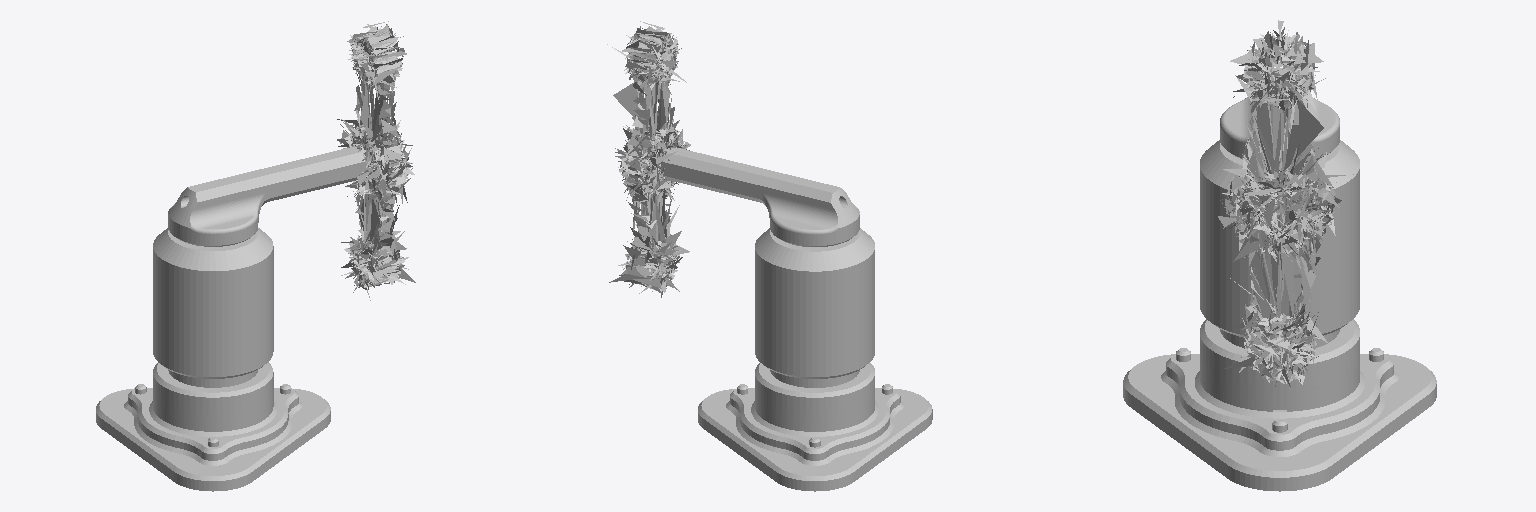
robot.urdf — melon_reactor:
<?xml version="1.0"?>
<robot name="melon_reactor">
  <material name="titanium"><color rgba="0.8 0.8 0.8 1"/></material>

  <link name="world"/>

  <link name="base_link">
    <visual>
      <origin xyz="0 0 0" rpy="0 0 0"/>
      <geometry><mesh filename="package://melon_warpdrive/urdf/model/base.stl" scale="0.001 0.001 0.001"/></geometry>
      <material name="titanium"/>
    </visual>
  </link>
  <joint name="world_to_base" type="fixed"><parent link="world"/><child link="base_link"/></joint>

  <link name="arm_link">
    <visual>
      <origin xyz="0 0 0" rpy="0 0 0"/>
      <geometry><mesh filename="package://melon_warpdrive/urdf/model/arm.stl" scale="0.001 0.001 0.001"/></geometry>
      <material name="titanium"/>
    </visual>
  </link>
  <joint name="arm_joint" type="continuous">
    <parent link="base_link"/><child link="arm_link"/>
    <origin xyz="0 0 0.305" rpy="0 0 0"/><axis xyz="0 0 1"/>
  </joint>

  <link name="pendulum_link">
    <visual>
      <!-- TODO: Set xyz to the position of your STL's origin relative to the pivot (this link's origin),
           in metres, so that the pendulum points along +z at alpha = 0. The value depends on where
           you placed the origin of your CAD part. -->
      <origin xyz="0 0 0" rpy="0 0 0"/> 
      <geometry><mesh filename="package://melon_warpdrive/urdf/model/pendulum.stl" scale="0.001 0.001 0.001"/></geometry>
      <material name="titanium"/>
    </visual>
  </link>
  
  <joint name="pendulum_joint" type="continuous">
    <parent link="arm_link"/><child link="pendulum_link"/>
    <origin xyz="0.250 0 0.045" rpy="0 0 0"/><axis xyz="1 0 0"/>
  </joint>
</robot>

--- Facts derived from the render (not from the file) ---
The picture shows the robot from 3 angles, left to right: view 1: azimuth 30°, elevation 25°; view 2: azimuth 150°, elevation 25°; view 3: azimuth 270°, elevation 25°; orthographic projection.
Robot: melon_reactor — 4 links, 3 joints (2 continuous, 1 fixed); root link world; default pose: all joints at 0.
Visible links, largest first — view 1: base_link, pendulum_link, arm_link; view 2: base_link, pendulum_link, arm_link; view 3: base_link, pendulum_link, arm_link.
Link boxes in pixels (x1=…): base_link: x1=96, y1=228, x2=330, y2=491; pendulum_link: x1=337, y1=21, x2=415, y2=300; arm_link: x1=168, y1=146, x2=367, y2=246; base_link: x1=698, y1=228, x2=932, y2=491; pendulum_link: x1=607, y1=21, x2=690, y2=297; arm_link: x1=661, y1=147, x2=859, y2=246; base_link: x1=1123, y1=140, x2=1436, y2=491; pendulum_link: x1=1218, y1=20, x2=1353, y2=388; arm_link: x1=1220, y1=68, x2=1339, y2=162.
Bounding box of the posed robot: 0.419 × 0.3122 × 0.5468 m (x, y, z).
Meshes: 3 distinct files referenced, 3 mesh visuals loaded (3 binary STL).
